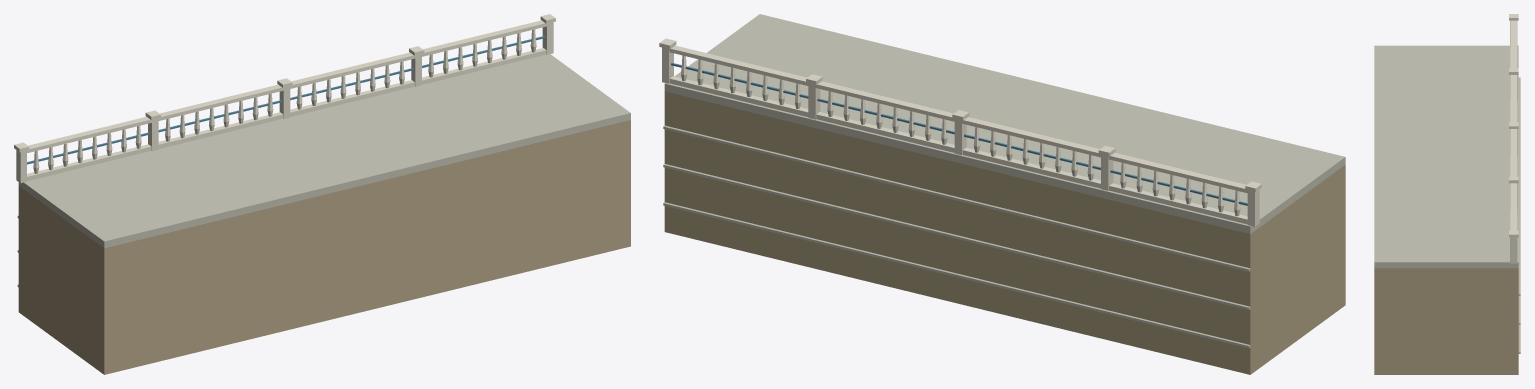
Rendered from KOL_HBR_RF_02.fbx.
The picture shows the model from 3 angles, left to right: view 1: azimuth 30°, elevation 25°; view 2: azimuth 150°, elevation 25°; view 3: azimuth 270°, elevation 25°; orthographic projection. The views are drawn at different scales.
Visible parts, largest first — view 1: KOL_HBR_RF_02__WallAndWalk__Stone, KOL_HBR_RF_02__WallAndWalk__Concrete, KOL_HBR_RF_02__Balustrade16__White, KOL_HBR_RF_02__Balustrade16__White.002, KOL_HBR_RF_02__Balustrade16__White.001, KOL_HBR_RF_02__Balustrade16__White.003; view 2: KOL_HBR_RF_02__WallAndWalk__Stone, KOL_HBR_RF_02__WallAndWalk__Concrete, KOL_HBR_RF_02__Balustrade16__White, KOL_HBR_RF_02__Balustrade16__White.002, KOL_HBR_RF_02__Balustrade16__White.003, KOL_HBR_RF_02__Balustrade16__White.001; view 3: KOL_HBR_RF_02__WallAndWalk__Concrete, KOL_HBR_RF_02__WallAndWalk__Stone, KOL_HBR_RF_02__Balustrade16__White.003, KOL_HBR_RF_02__Balustrade16__White, KOL_HBR_RF_02__Balustrade16__White.001, KOL_HBR_RF_02__Balustrade16__White.002, KOL_HBR_RF_02__RailTerminal__White.
Boxes of the visible parts, x1,y1,x2,y2 form: KOL_HBR_RF_02__WallAndWalk__Stone: (18,120,630,374); KOL_HBR_RF_02__WallAndWalk__Concrete: (17,54,630,287); KOL_HBR_RF_02__Balustrade16__White: (14,116,151,183); KOL_HBR_RF_02__Balustrade16__White.002: (277,52,415,118); KOL_HBR_RF_02__Balustrade16__White.001: (145,84,283,151); KOL_HBR_RF_02__Balustrade16__White.003: (409,20,546,86); KOL_HBR_RF_02__WallAndWalk__Stone: (664,91,1345,374); KOL_HBR_RF_02__WallAndWalk__Concrete: (663,14,1345,348); KOL_HBR_RF_02__Balustrade16__White: (1108,152,1261,226); KOL_HBR_RF_02__Balustrade16__White.002: (815,81,969,155); KOL_HBR_RF_02__Balustrade16__White.003: (669,45,822,119); KOL_HBR_RF_02__Balustrade16__White.001: (962,117,1115,190); KOL_HBR_RF_02__WallAndWalk__Concrete: (1374,45,1520,353); KOL_HBR_RF_02__WallAndWalk__Stone: (1374,268,1518,374); KOL_HBR_RF_02__Balustrade16__White.003: (1509,176,1518,230); KOL_HBR_RF_02__Balustrade16__White: (1509,14,1518,68); KOL_HBR_RF_02__Balustrade16__White.001: (1509,68,1518,122); KOL_HBR_RF_02__Balustrade16__White.002: (1509,122,1518,176); KOL_HBR_RF_02__RailTerminal__White: (1509,230,1518,263).
Bounding box in the file's own units: 65.15 × 19.6 × 18.27.
